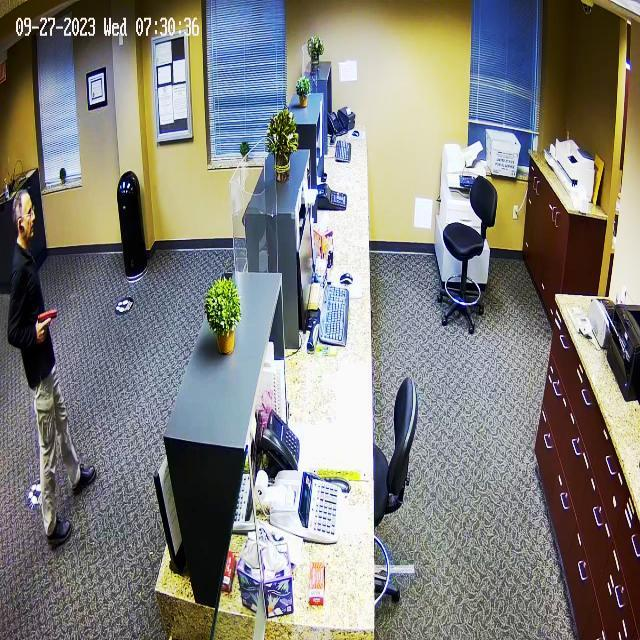Gun: (28, 299, 70, 338)
